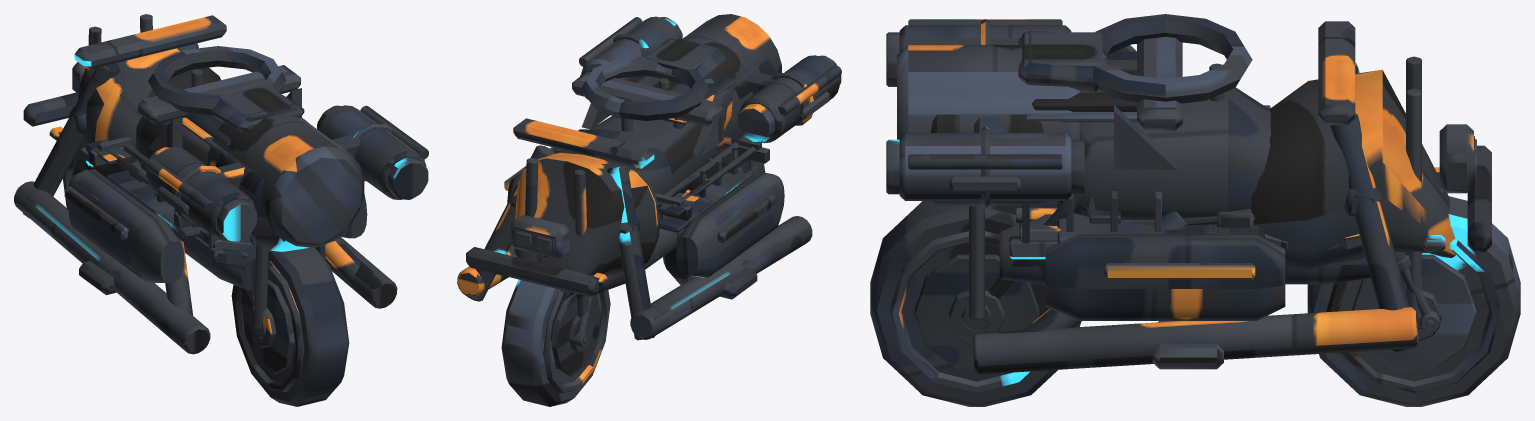
Rendered from SkirmishStrikeBike_Atlas.fbx.
3 renders of one model, left to right at view 1: azimuth 30°, elevation 25°; view 2: azimuth 150°, elevation 25°; view 3: azimuth 270°, elevation 25°, orthographic. The views are drawn at different scales.
Parts seen in each view (by area): view 1: SkirmishStrikeBike_UnifiedMesh; view 2: SkirmishStrikeBike_UnifiedMesh; view 3: SkirmishStrikeBike_UnifiedMesh.
Part boxes in pixels (bbox=[...]): SkirmishStrikeBike_UnifiedMesh: bbox=[14, 14, 428, 406]; SkirmishStrikeBike_UnifiedMesh: bbox=[457, 14, 841, 406]; SkirmishStrikeBike_UnifiedMesh: bbox=[870, 14, 1520, 406].
Size of the model in its own units: 120 by 131 by 220.
1 material, 1 textured.
